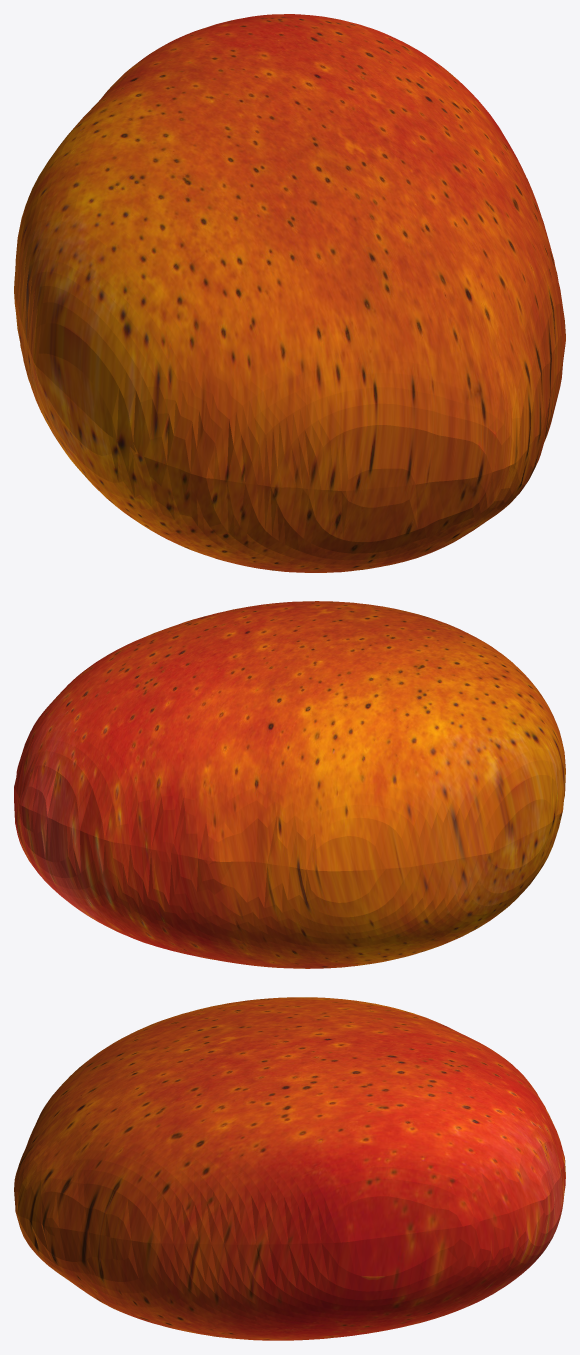
File: fruit.obj
3 views of the same model, one above another, from view 1: azimuth 30°, elevation 25°; view 2: azimuth 150°, elevation 25°; view 3: azimuth 270°, elevation 25° (orthographic). The views are drawn at different scales.
Parts seen in each view (by area): view 1: Object.1; view 2: Object.1; view 3: Object.1.
Boxes of the visible parts, bbox=[...] form: Object.1: bbox=[14, 14, 565, 572]; Object.1: bbox=[14, 601, 565, 968]; Object.1: bbox=[14, 997, 565, 1340].
Bounding box in the file's own units: 200 × 152 × 255.
1 material, 1 textured.
